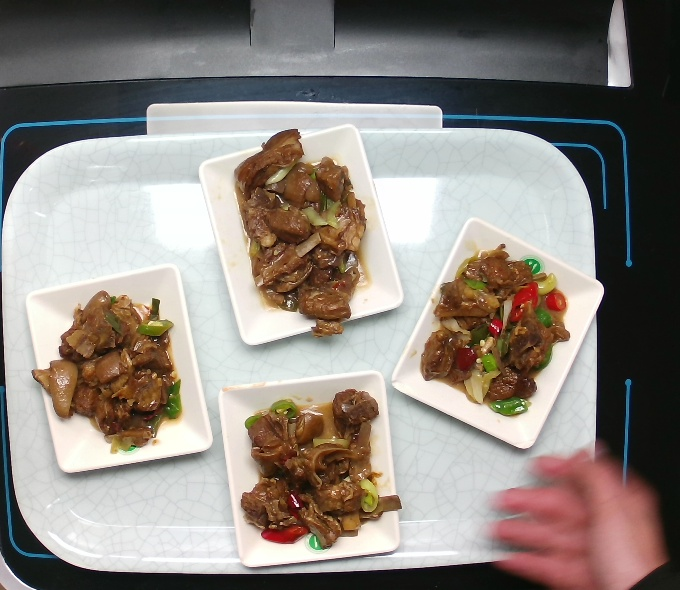wcq-YangRou: (220, 385, 417, 558), (225, 120, 376, 343), (410, 241, 586, 428), (25, 285, 189, 463)
